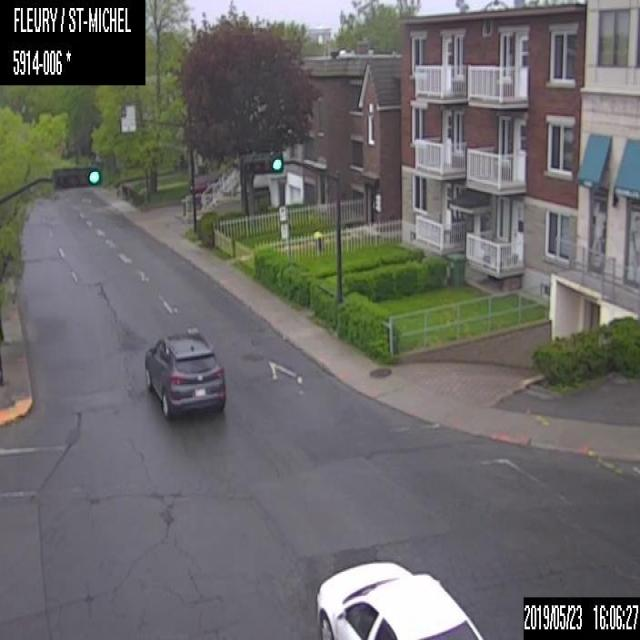vehicle: (312, 560, 484, 639), (144, 326, 225, 418)
